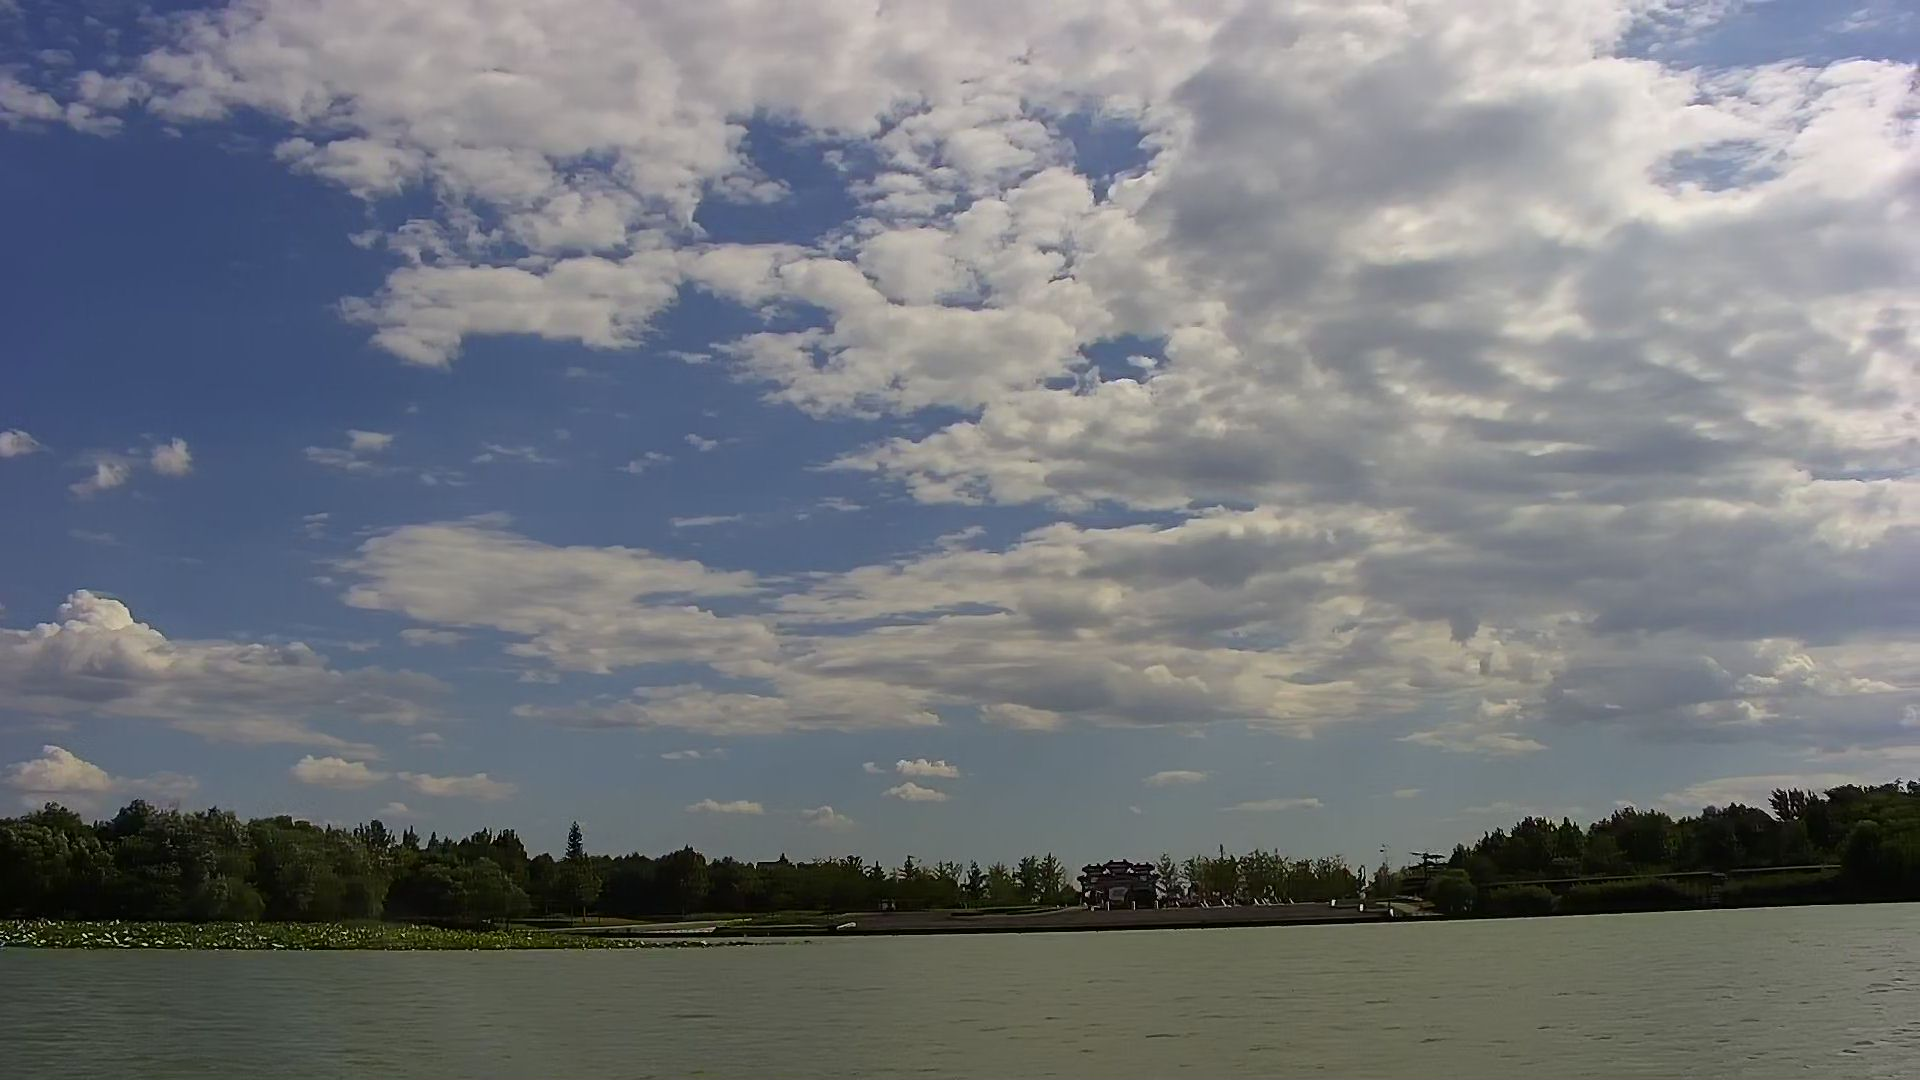harbor: (847, 891, 1462, 936)
